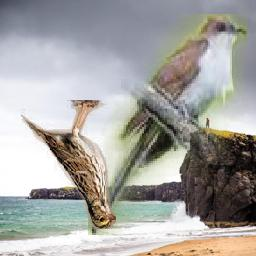Cuckoo: (89, 15, 248, 236)
Sparrow: (22, 101, 117, 230)
